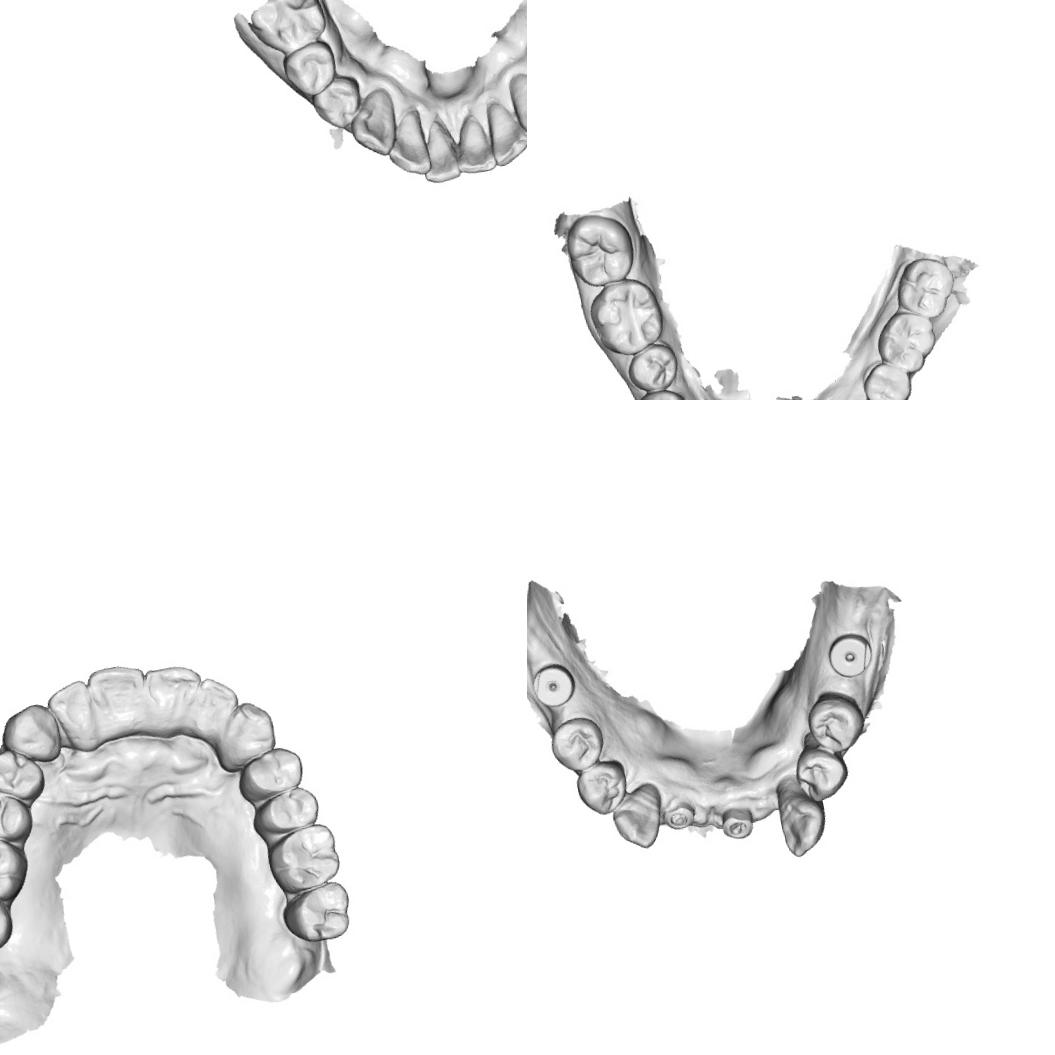canine: (206, 696, 282, 775), (767, 772, 833, 862), (604, 778, 672, 856), (340, 86, 400, 164), (0, 698, 64, 770), (505, 64, 527, 141)
implant: (819, 626, 882, 684), (527, 656, 579, 710), (658, 788, 705, 839), (713, 799, 761, 847)
incisor: (84, 658, 154, 738), (142, 660, 210, 739), (42, 676, 100, 758), (182, 672, 246, 745), (377, 108, 438, 180), (412, 115, 466, 186), (448, 109, 502, 177), (481, 92, 527, 169)
molar: (583, 273, 668, 361), (560, 208, 638, 293), (262, 820, 344, 898), (238, 0, 333, 63), (276, 877, 356, 947), (870, 305, 941, 379), (890, 252, 960, 324), (0, 825, 34, 910), (0, 881, 19, 960)
premolar: (231, 742, 309, 808), (800, 686, 870, 759), (542, 708, 613, 778), (246, 782, 323, 840), (788, 738, 852, 806), (570, 755, 634, 822), (276, 36, 345, 98), (306, 72, 374, 134), (622, 338, 683, 395), (0, 741, 49, 810), (0, 783, 36, 853), (858, 356, 915, 400), (631, 384, 692, 400)
